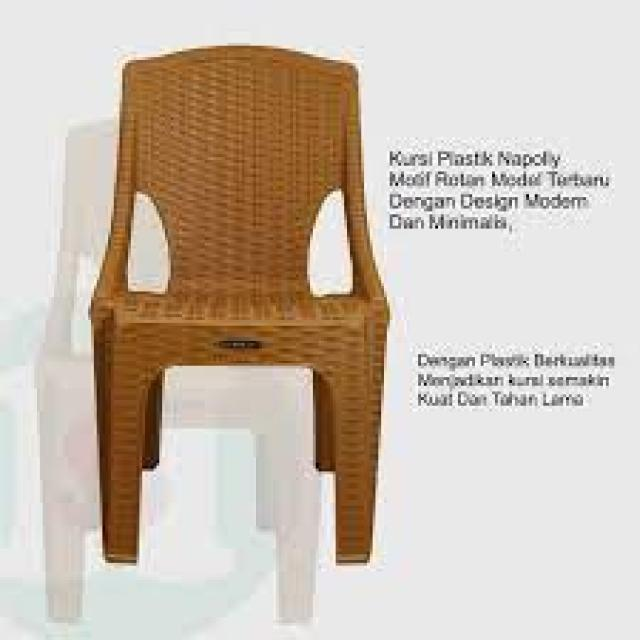chair: (85, 36, 400, 581)
